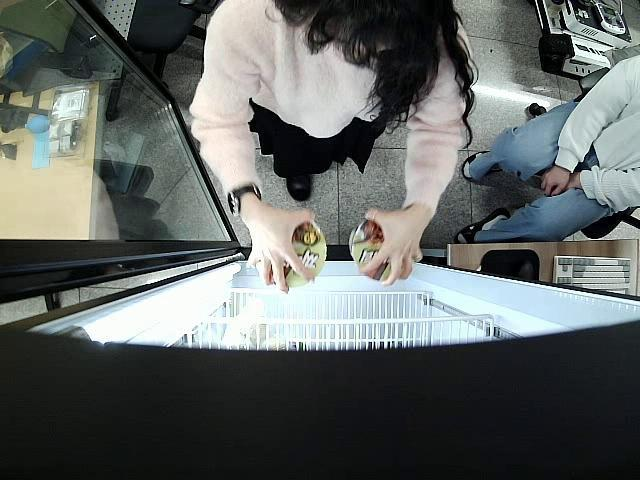03_chapagetti_L: (268, 220, 326, 289), (349, 222, 398, 283)
